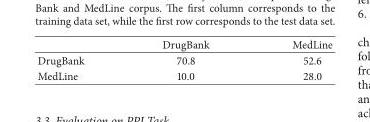table: (36, 36, 331, 83)
table column: (122, 36, 250, 83), (36, 36, 122, 83), (250, 36, 331, 83)
table column header: (36, 36, 331, 51)
table row: (36, 51, 331, 67), (36, 67, 331, 83), (36, 36, 331, 51)
